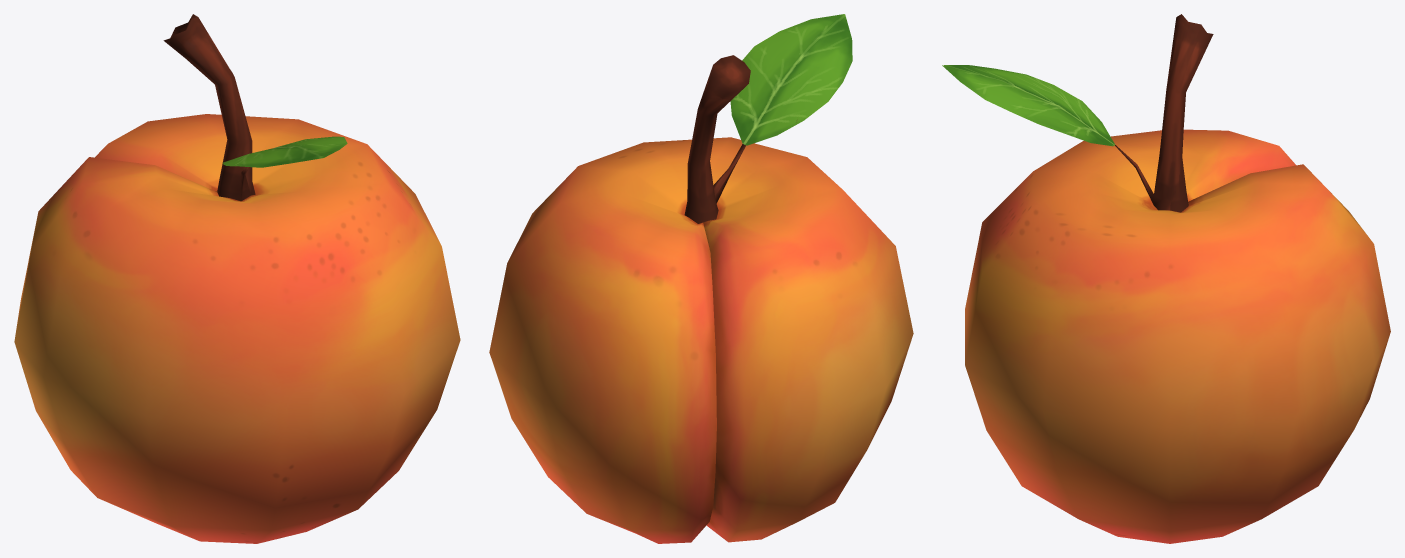
Rendered from apricot.fbx.
3 views of the same model, side by side, from view 1: azimuth 30°, elevation 25°; view 2: azimuth 150°, elevation 25°; view 3: azimuth 270°, elevation 25° (orthographic). The views are drawn at different scales.
Visible parts, largest first — view 1: apricot; view 2: apricot; view 3: apricot.
Part boxes in pixels (<box>): apricot: <box>14,14,460,543</box>; apricot: <box>489,14,913,543</box>; apricot: <box>942,14,1390,543</box>.
Size of the model in its own units: 1.86 by 2.29 by 1.93.
